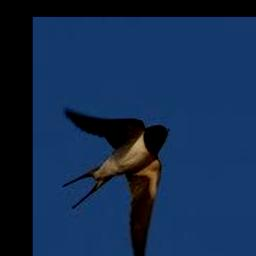Swallow: (62, 108, 169, 256)
